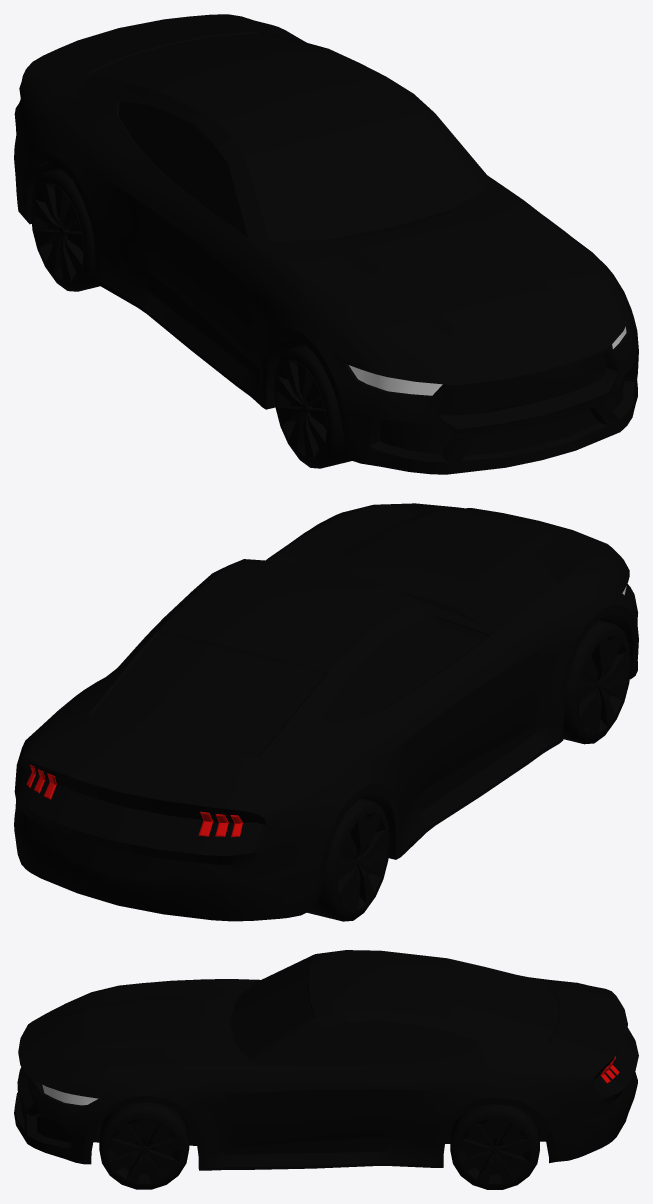
Rendered from car_low.glb.
The picture shows the model from 3 angles, top to bottom: view 1: azimuth 30°, elevation 25°; view 2: azimuth 150°, elevation 25°; view 3: azimuth 270°, elevation 25°; orthographic projection. The views are drawn at different scales.
Parts seen in each view (by area): view 1: node_id8, node_id11, node_id20, node_id27, node_id34, node_id30, node_id37, node_id14; view 2: node_id8, node_id11, node_id20, node_id34, node_id27, node_id37, node_id30, node_id17; view 3: node_id8, node_id11, node_id44, node_id51, node_id20, node_id41, node_id48, node_id14.
Boxes of the visible parts, x1,y1,x2,y2 form: node_id8: [14, 14, 638, 474]; node_id11: [91, 33, 484, 241]; node_id20: [26, 31, 630, 455]; node_id27: [276, 360, 327, 458]; node_id34: [33, 183, 84, 281]; node_id30: [273, 344, 351, 468]; node_id37: [30, 168, 99, 291]; node_id14: [349, 326, 626, 395]; node_id8: [14, 503, 638, 919]; node_id11: [91, 588, 488, 756]; node_id20: [14, 584, 633, 921]; node_id34: [336, 813, 387, 911]; node_id27: [577, 636, 628, 733]; node_id37: [307, 798, 389, 921]; node_id30: [563, 620, 630, 744]; node_id17: [26, 765, 242, 837]; node_id8: [14, 950, 638, 1170]; node_id11: [230, 955, 558, 1065]; node_id44: [99, 1102, 189, 1189]; node_id51: [450, 1104, 539, 1189]; node_id20: [17, 954, 637, 1152]; node_id41: [107, 1117, 180, 1183]; node_id48: [458, 1118, 531, 1183]; node_id14: [42, 1084, 98, 1105].
Size of the model in its own units: 0.512 by 0.3594 by 1.26.
Materials: 14 (14 with a texture image).
